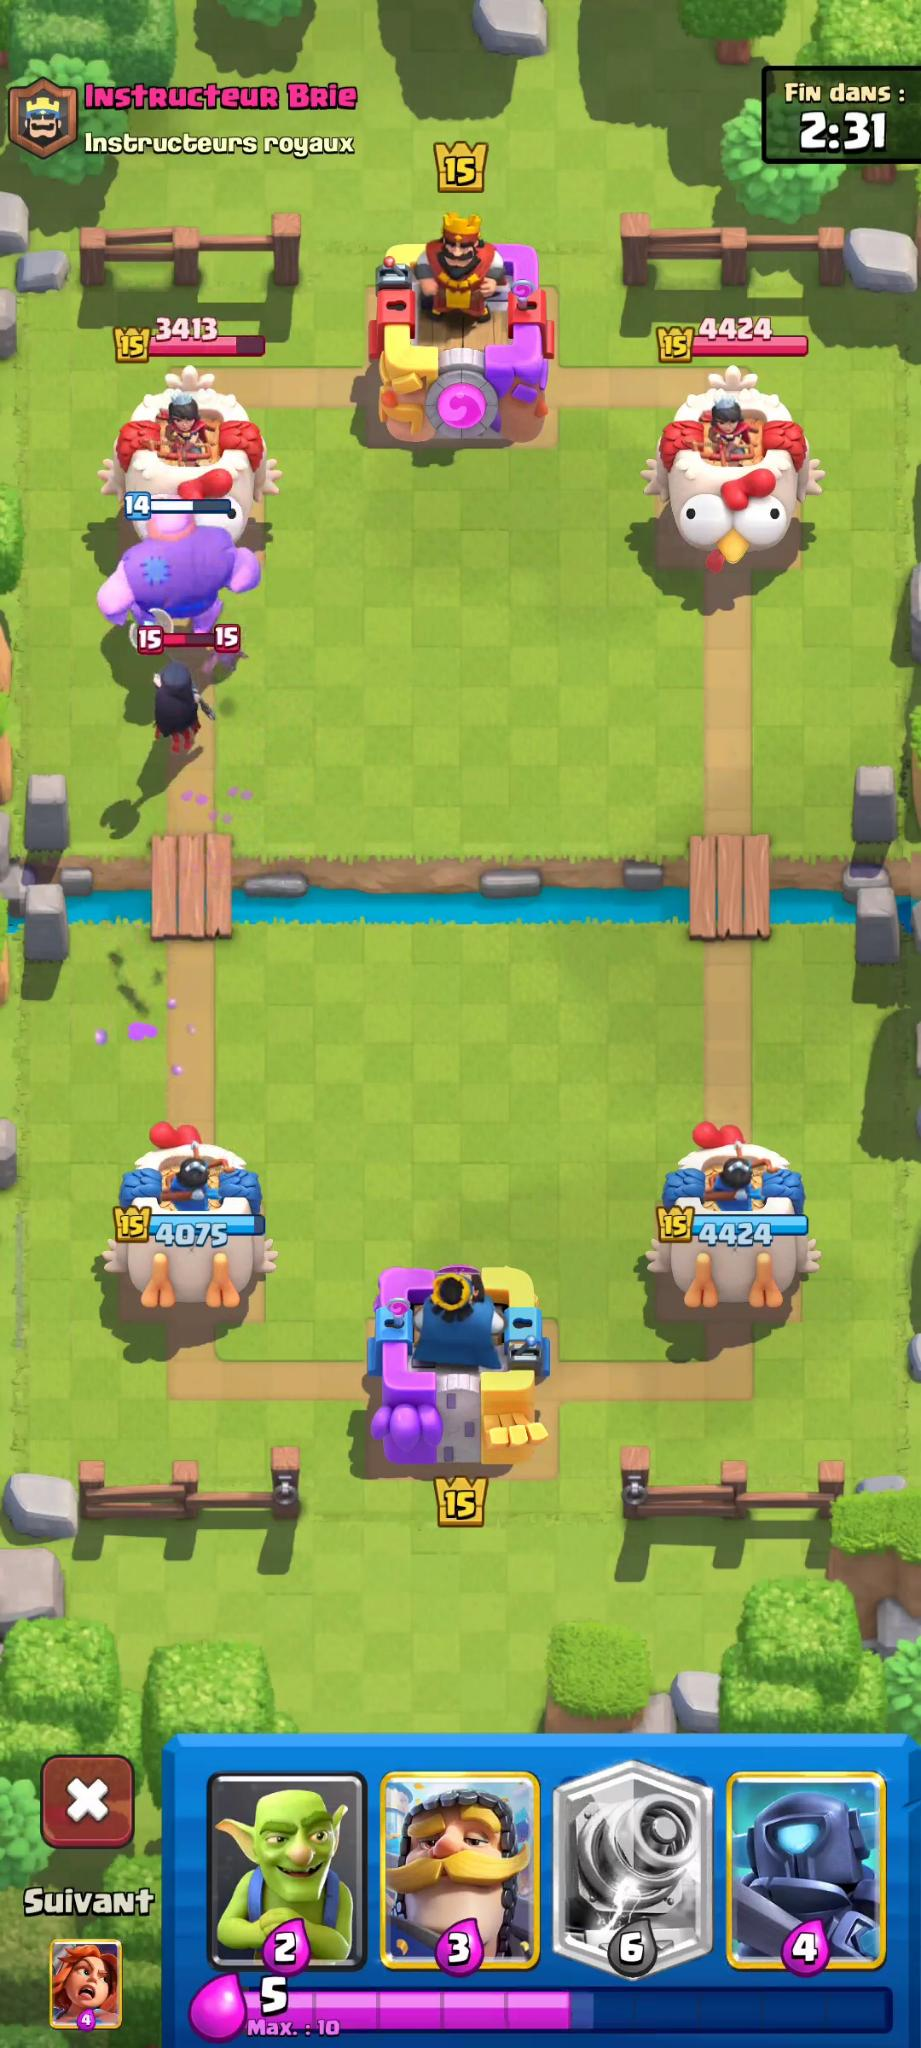bat: (193, 636, 260, 684)
geant: (116, 503, 265, 657)
